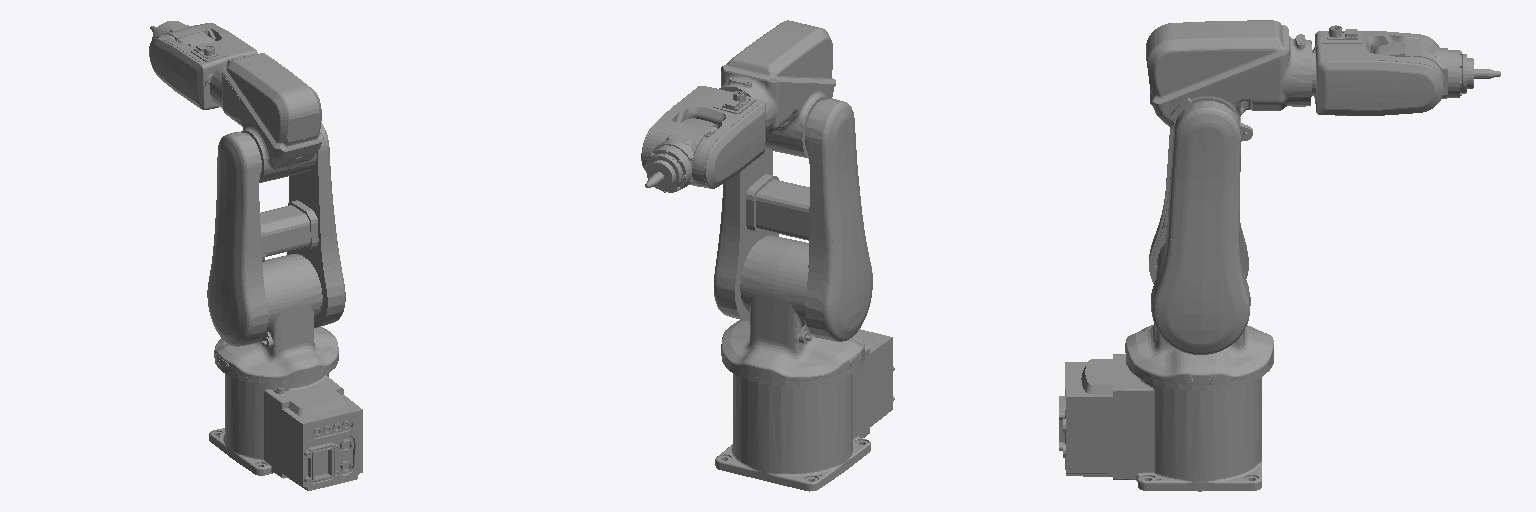
URDF robot description (irb_120_arm):
<?xml version="1.0" encoding="utf-8" ?>
<!-- This URDF was automatically created by SolidWorks to URDF Exporter! Originally created by [author] ([email redacted]) 
     Commit Version: 1.6.0-4-g7f85cfe  Build Version: 1.6.7995.38578
     For more information, please see http://wiki.ros.org/sw_urdf_exporter -->
<robot name="irb_120_arm">
    <link name="world" />
    <joint name="fixed" type="fixed">
        <parent link="world" />
        <child link="base_link" />
        <origin rpy="0 0 1.571" xyz="0.0 0.0 0.0" />
    </joint>
    <link name="base_link">
        <inertial>
            <origin xyz="-0.0394564101883986 9.80526206739996E-05 0.0841960243844919" rpy="0 0 0" />
            <mass value="6.49690455185258" />
            <inertia ixx="0.0283253483378206" ixy="8.21558488245514E-05" ixz="-0.00236419677925828" iyy="0.0526541543206423" iyz="-3.24255398970675E-06" izz="0.0492023796521991" />
        </inertial>
        <visual>
            <origin xyz="0 0 0" rpy="0 0 0" />
            <geometry>
                <mesh filename="package://irb_120_arm/meshes/base_link.STL" />
            </geometry>
            <material name="">
                <color rgba="0.627450980392157 0.627450980392157 0.627450980392157 1" />
            </material>
        </visual>
        <collision>
            <origin xyz="0 0 0" rpy="0 0 0" />
            <geometry>
                <mesh filename="package://irb_120_arm/meshes/base_link.STL" />
            </geometry>
        </collision>
    </link>
    <link name="link_1">
        <inertial>
            <origin xyz="2.24813138507973E-07 6.60461437239357E-05 0.0994203451858565" rpy="0 0 0" />
            <mass value="2.80384556300396" />
            <inertia ixx="0.0120439297332374" ixy="-3.98994467283646E-08" ixz="-3.88412357120071E-08" iyy="0.0120196223339544" iyz="1.14508246894333E-05" izz="0.00855416548030085" />
        </inertial>
        <visual>
            <origin xyz="0 0 0" rpy="0 0 0" />
            <geometry>
                <mesh filename="package://irb_120_arm/meshes/link_1.STL" />
            </geometry>
            <material name="">
                <color rgba="0.627450980392157 0.627450980392157 0.627450980392157 1" />
            </material>
        </visual>
        <collision>
            <origin xyz="0 0 0" rpy="0 0 0" />
            <geometry>
                <mesh filename="package://irb_120_arm/meshes/link_1.STL" />
            </geometry>
        </collision>
    </link>
    <joint name="joint_1" type="revolute">
        <origin xyz="0 0 0.147" rpy="0 0 0.017453" />
        <parent link="base_link" />
        <child link="link_1" />
        <axis xyz="0 0 1" />
        <limit lower="-2.879" upper="2.879" effort="30" velocity="3" />
    </joint>
    <link name="link_2">
        <inertial>
            <origin xyz="0.000760880546593637 0.108231955553909 0.00189522689121943" rpy="0 0 0" />
            <mass value="3.9977105030265" />
            <inertia ixx="0.0634886092158393" ixy="-3.59622107958833E-05" ixz="9.09127357863172E-06" iyy="0.0259011454058795" iyz="-0.000335634273320829" izz="0.0448119028286137" />
        </inertial>
        <visual>
            <origin xyz="0 0 0" rpy="0 0 0" />
            <geometry>
                <mesh filename="package://irb_120_arm/meshes/link_2.STL" />
            </geometry>
            <material name="">
                <color rgba="0.627450980392157 0.627450980392157 0.627450980392157 1" />
            </material>
        </visual>
        <collision>
            <origin xyz="0 0 0" rpy="0 0 0" />
            <geometry>
                <mesh filename="package://irb_120_arm/meshes/link_2.STL" />
            </geometry>
        </collision>
    </link>
    <joint name="joint_2" type="revolute">
        <origin xyz="0 0 0.143" rpy="1.5708 -0.036415 3.1416" />
        <parent link="link_1" />
        <child link="link_2" />
        <axis xyz="0 0 1" />
        <limit lower="-1.919" upper="1.919" effort="30" velocity="3" />
    </joint>
    <link name="link_3">
        <inertial>
            <origin xyz="-0.0228405769824482 0.060617722651188 -0.00860164750048098" rpy="0 0 0" />
            <mass value="2.76959626543622" />
            <inertia ixx="0.00770615498635455" ixy="0.00121351382279735" ixz="-6.56112016731694E-05" iyy="0.0119954359890419" iyz="0.000151031018850409" izz="0.0156487278211938" />
        </inertial>
        <visual>
            <origin xyz="0 0 0" rpy="0 0 0" />
            <geometry>
                <mesh filename="package://irb_120_arm/meshes/link_3.STL" />
            </geometry>
            <material name="">
                <color rgba="0.627450980392157 0.627450980392157 0.627450980392157 1" />
            </material>
        </visual>
        <collision>
            <origin xyz="0 0 0" rpy="0 0 0" />
            <geometry>
                <mesh filename="package://irb_120_arm/meshes/link_3.STL" />
            </geometry>
        </collision>
    </link>
    <joint name="joint_3" type="revolute">
        <origin xyz="0 0.27 0" rpy="0 0 -0.021934" />
        <parent link="link_2" />
        <child link="link_3" />
        <axis xyz="0 0 -1" />
        <limit lower="-1.919" upper="1.221" effort="30" velocity="3" />
    </joint>
    <link name="link_4">
        <inertial>
            <origin xyz="-0.0986970887033946 0.000379580546909342 0.000211962449276071" rpy="0 0 0" />
            <mass value="1.3383417315645" />
            <inertia ixx="0.00281152690241328" ixy="-1.44140349077543E-05" ixz="-1.5969524558929E-05" iyy="0.00535957966014033" iyz="-1.28656743815271E-05" izz="0.00414855843125605" />
        </inertial>
        <visual>
            <origin xyz="0 0 0" rpy="0 0 0" />
            <geometry>
                <mesh filename="package://irb_120_arm/meshes/link_4.STL" />
            </geometry>
            <material name="">
                <color rgba="0.627450980392157 0.627450980392157 0.627450980392157 1" />
            </material>
        </visual>
        <collision>
            <origin xyz="0 0 0" rpy="0 0 0" />
            <geometry>
                <mesh filename="package://irb_120_arm/meshes/link_4.STL" />
            </geometry>
        </collision>
    </link>
    <joint name="joint_4" type="revolute">
        <origin xyz="-0.1231 0.07 -0.0095" rpy="0.02618 0 0" />
        <parent link="link_3" />
        <child link="link_4" />
        <axis xyz="-1 0 0" />
        <limit lower="-2.792" upper="2.792" effort="30" velocity="3" />
    </joint>
    <link name="link_5">
        <inertial>
            <origin xyz="-0.000720593608258713 6.1441632035919E-05 1.69265462482138E-05" rpy="0 0 0" />
            <mass value="0.576051338793126" />
            <inertia ixx="0.000426758922234437" ixy="8.38395301999328E-07" ixz="1.28189307707151E-06" iyy="0.000902913006046663" iyz="-3.02730352420694E-08" izz="0.000962695885468608" />
        </inertial>
        <visual>
            <origin xyz="0 0 0" rpy="0 0 0" />
            <geometry>
                <mesh filename="package://irb_120_arm/meshes/link_5.STL" />
            </geometry>
            <material name="">
                <color rgba="0.627450980392157 0.627450980392157 0.627450980392157 1" />
            </material>
        </visual>
        <collision>
            <origin xyz="0 0 0" rpy="0 0 0" />
            <geometry>
                <mesh filename="package://irb_120_arm/meshes/link_5.STL" />
            </geometry>
        </collision>
    </link>
    <joint name="joint_5" type="revolute">
        <origin xyz="-0.1789 0 0" rpy="0 0 0" />
        <parent link="link_4" />
        <child link="link_5" />
        <axis xyz="0 0 1" />
        <limit lower="-2.094" upper="2.094" effort="30" velocity="3" />
    </joint>
    <link name="end_effector">
        <inertial>
            <origin xyz="-0.0169363221857243 -0.000443645088158195 -0.000443493197877787" rpy="0 0 0" />
            <mass value="0.0302455990975448" />
            <inertia ixx="9.64620563295697E-06" ixy="2.85807836574173E-08" ixz="2.85708554201054E-08" iyy="8.55587760602904E-06" iyz="7.48414387458408E-10" izz="8.55587708471439E-06" />
        </inertial>
        <visual>
            <origin xyz="0 0 0" rpy="0 0 0" />
            <geometry>
                <mesh filename="package://irb_120_arm/meshes/end_effector.STL" />
            </geometry>
            <material name="">
                <color rgba="0.627450980392157 0.627450980392157 0.627450980392157 1" />
            </material>
        </visual>
        <collision>
            <origin xyz="0 0 0" rpy="0 0 0" />
            <geometry>
                <mesh filename="package://irb_120_arm/meshes/end_effector.STL" />
            </geometry>
        </collision>
    </link>
    <joint name="joint_6" type="revolute">
        <origin xyz="-0.061534 0 0" rpy="-2.1227 -0.03602 -0.0085566" />
        <parent link="link_5" />
        <child link="end_effector" />
        <axis xyz="-0.99931 -0.026177 -0.026168" />
        <limit lower="-6.981" upper="6.981" effort="30" velocity="3" />
    </joint>
    <transmission name="trans_1">
        <type>transmission_interface/SimpleTransmission</type>
        <joint name="joint_1">
            <hardwareInterface>hardware_interface/PositionJointInterface</hardwareInterface>
        </joint>
        <actuator name="motor_1">
            <hardwareInterface>hardware_interface/PositionJointInterface</hardwareInterface>
            <mechanicalReduction>1</mechanicalReduction>
        </actuator>
    </transmission>
    <transmission name="trans_2">
        <type>transmission_interface/SimpleTransmission</type>
        <joint name="joint_2">
            <hardwareInterface>hardware_interface/PositionJointInterface</hardwareInterface>
        </joint>
        <actuator name="motor_2">
            <hardwareInterface>hardware_interface/PositionJointInterface</hardwareInterface>
            <mechanicalReduction>1</mechanicalReduction>
        </actuator>
    </transmission>
    <transmission name="trans_3">
        <type>transmission_interface/SimpleTransmission</type>
        <joint name="joint_3">
            <hardwareInterface>hardware_interface/PositionJointInterface</hardwareInterface>
        </joint>
        <actuator name="motor_3">
            <hardwareInterface>hardware_interface/PositionJointInterface</hardwareInterface>
            <mechanicalReduction>1</mechanicalReduction>
        </actuator>
    </transmission>
    <transmission name="trans_4">
        <type>transmission_interface/SimpleTransmission</type>
        <joint name="joint_4">
            <hardwareInterface>hardware_interface/PositionJointInterface</hardwareInterface>
        </joint>
        <actuator name="motor_4">
            <hardwareInterface>hardware_interface/PositionJointInterface</hardwareInterface>
            <mechanicalReduction>1</mechanicalReduction>
        </actuator>
    </transmission>
    <transmission name="trans_5">
        <type>transmission_interface/SimpleTransmission</type>
        <joint name="joint_5">
            <hardwareInterface>hardware_interface/PositionJointInterface</hardwareInterface>
        </joint>
        <actuator name="motor_5">
            <hardwareInterface>hardware_interface/PositionJointInterface</hardwareInterface>
            <mechanicalReduction>1</mechanicalReduction>
        </actuator>
    </transmission>
    <transmission name="trans_6">
        <type>transmission_interface/SimpleTransmission</type>
        <joint name="joint_6">
            <hardwareInterface>hardware_interface/PositionJointInterface</hardwareInterface>
        </joint>
        <actuator name="motor_6">
            <hardwareInterface>hardware_interface/PositionJointInterface</hardwareInterface>
            <mechanicalReduction>1</mechanicalReduction>
        </actuator>
    </transmission>
    <gazebo>
        <plugin name="control" filename="libgazebo_ros_control.so" />
        <plugin name="gazebo_ros_control">
            <robotNamespace>/</robotNamespace>
        </plugin>
    </gazebo>
    <gazebo reference="base_link">
        <selfcollide>true</selfcollide>
    </gazebo>
    <gazebo reference="link_1">
        <selfcollide>true</selfcollide>
    </gazebo>
    <gazebo reference="link_2">
        <selfcollide>true</selfcollide>
    </gazebo>
    <gazebo reference="link_3">
        <selfcollide>true</selfcollide>
    </gazebo>
    <gazebo reference="link_4">
        <selfcollide>true</selfcollide>
    </gazebo>
    <gazebo reference="link_5">
        <selfcollide>true</selfcollide>
    </gazebo>
    <gazebo reference="end_effector">
        <selfcollide>true</selfcollide>
    </gazebo>
    <gazebo reference="base_link">
        <material>Gazebo/Orange</material>
    </gazebo>
    <gazebo reference="link_1">
        <material>Gazebo/Orange</material>
    </gazebo>
    <gazebo reference="link_2">
        <material>Gazebo/Orange</material>
    </gazebo>
    <gazebo reference="link_3">
        <material>Gazebo/Orange</material>
    </gazebo>
    <gazebo reference="link_4">
        <material>Gazebo/Orange</material>
    </gazebo>
    <gazebo reference="link_5">
        <material>Gazebo/Orange</material>
    </gazebo>
    <gazebo reference="end_effector">
        <material>Gazebo/Orange</material>
    </gazebo>
</robot>

--- Render facts (derived) ---
The picture shows the robot from 3 angles, left to right: view 1: azimuth 30°, elevation 25°; view 2: azimuth 150°, elevation 25°; view 3: azimuth 270°, elevation 25°; orthographic projection.
Model irb_120_arm with 8 links and 7 joints (6 revolute, 1 fixed), rooted at world, posed every joint at zero.
Visible links, largest first — view 1: link_2, base_link, link_3, link_1, link_4, link_5; view 2: link_2, base_link, link_1, link_3, link_4, link_5, end_effector; view 3: base_link, link_2, link_3, link_4, link_1, link_5, end_effector.
Boxes of the visible links, x1,y1,x2,y2 form: link_2: (207,122,345,346); base_link: (209,354,362,490); link_3: (210,53,323,182); link_1: (214,254,338,380); link_4: (149,23,257,109); link_5: (153,21,214,45); link_2: (714,98,872,341); base_link: (715,329,894,491); link_1: (721,235,864,381); link_3: (719,20,835,158); link_4: (641,86,765,188); link_5: (645,118,717,192); end_effector: (645,154,681,191); base_link: (1059,354,1273,491); link_2: (1149,101,1250,354); link_3: (1146,20,1311,141); link_4: (1312,25,1444,115); link_1: (1125,244,1273,384); link_5: (1373,39,1461,98); end_effector: (1462,54,1500,93).
Bounding box of the posed robot: 0.2192 × 0.6385 × 0.6984 m (x, y, z).
7 mesh visuals loaded from 7 distinct referenced files (7 binary STL).